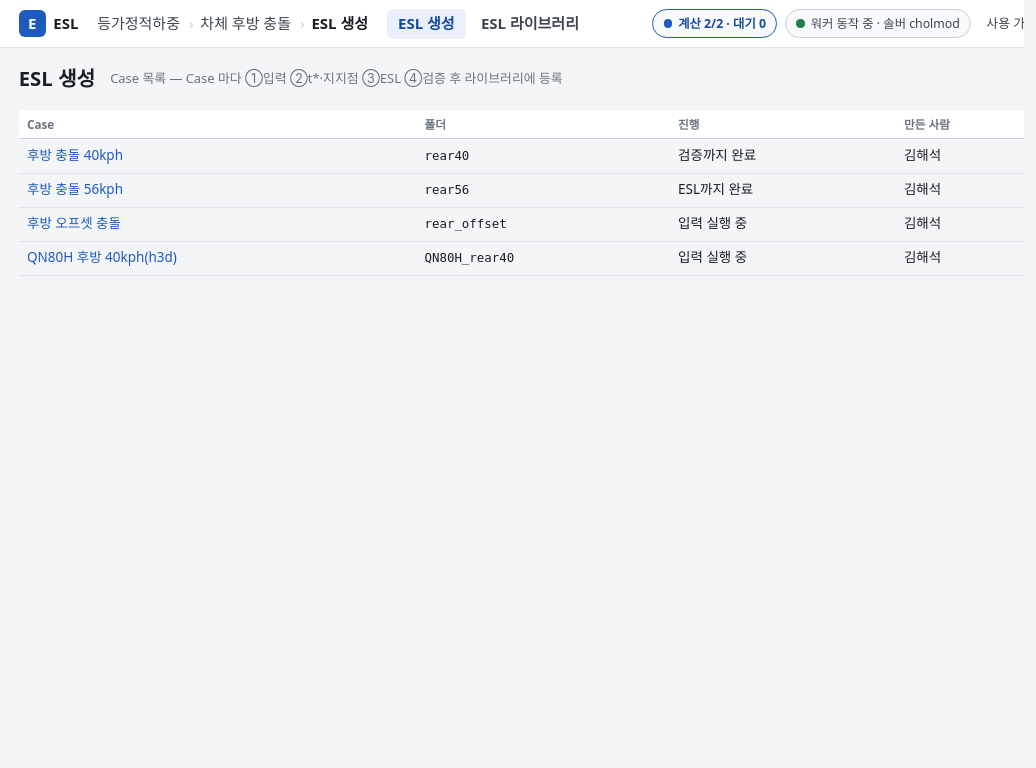
Test: V-L3-12 상태 칩·서랍 › h3d 추출 시연: 계산 2/2 · 칩 강조(내 작업) · 서랍에 동시 실행 2/2 와 행
Click the button with test id "chip-queue": x=715, y=24 left=652, top=9, right=778, bottom=38
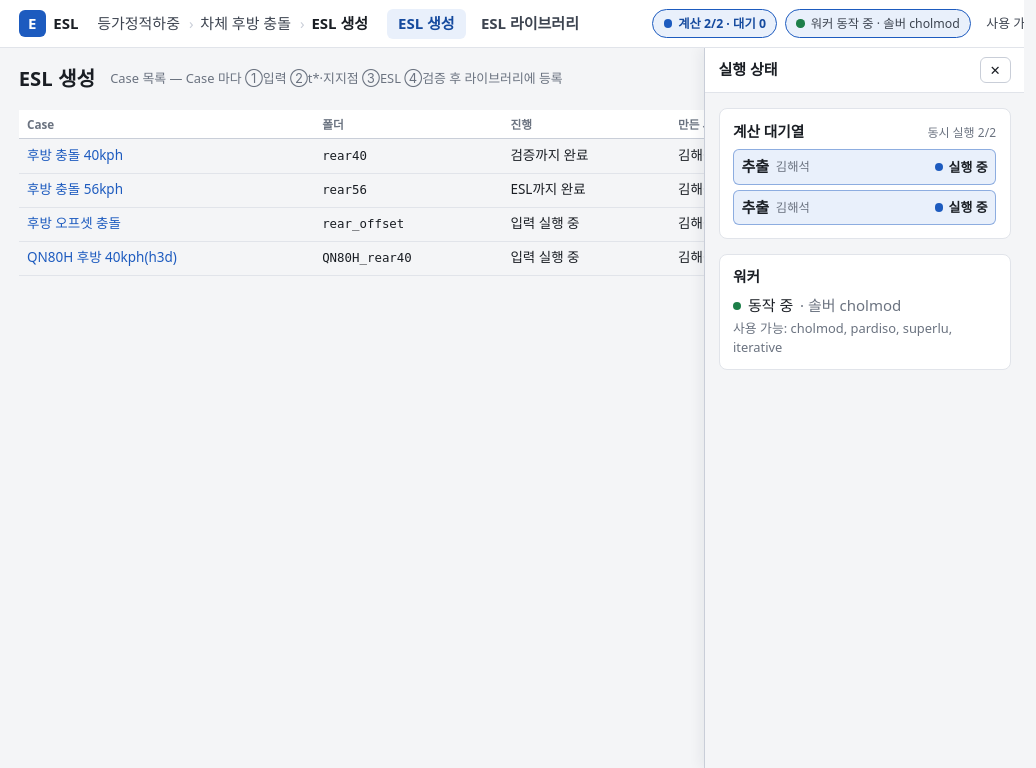
Expected: the text with test id "queue-slots" reads "동시 실행 2/2", left=927, top=124, right=996, bottom=141
